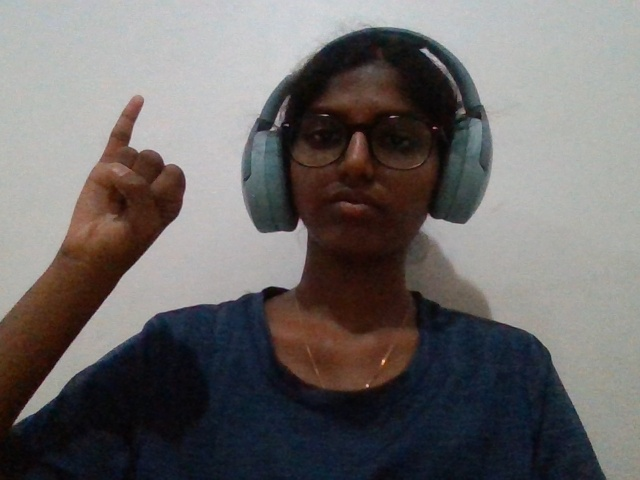I: (25, 83, 204, 315)
